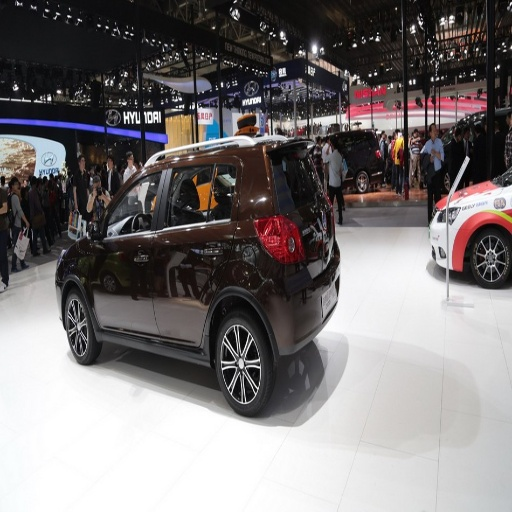back_left_door: (155, 165, 231, 341)
trunk: (271, 258, 326, 352)
